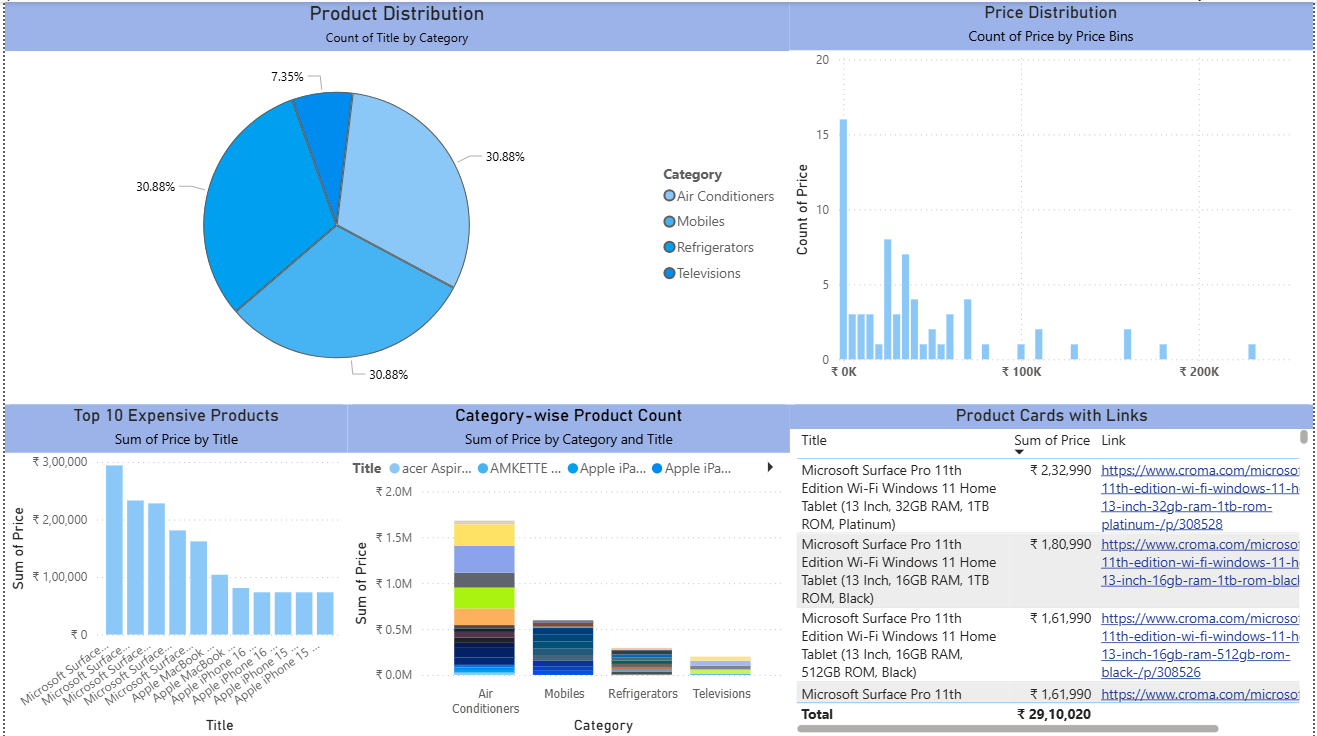

What the dashboard file says about the page in this screenshot:
{"tool":"powerbi","page":{"name":"Page 1","canvas":[1280,720],"ordinal":0},"visuals":[{"type":"columnChart","title":"Category-wise Product Count","fields":{"Y":["Sum(croma_cleaned_products.Price)"],"Category":["croma_cleaned_products.Category"],"Series":["croma_cleaned_products.Title"]},"box":[335.1,393.8,432.9,326.5],"z":0},{"type":"columnChart","title":"Price Distribution","fields":{"Category":["croma_cleaned_products.Price Bins"],"Y":["CountNonNull(croma_cleaned_products.Price)"]},"box":[767.1,0,512.9,392.9],"z":1000},{"type":"tableEx","title":"Product Cards with Links","fields":{"Values":["croma_cleaned_products.Title","Sum(croma_cleaned_products.Price)","croma_cleaned_products.Link"]},"box":[767.9,393.8,512.4,326.5],"z":2000},{"type":"clusteredColumnChart","title":"Top 10 Expensive Products","fields":{"Category":["croma_cleaned_products.Title"],"Y":["Sum(croma_cleaned_products.Price)"]},"box":[0,393.8,335.1,326.5],"z":3000},{"type":"pieChart","title":"Product Distribution","fields":{"Y":["CountNonNull(croma_cleaned_products.Title)"],"Category":["croma_cleaned_products.Category"]},"box":[0,0,767.1,392.9],"z":4000}]}

Visuals, with their boxes in screenshot pixels (x1, y1, x2, y2), scaled from the page's 1280x720 canvas onto the 1317x736 screenshot:
"Category-wise Product Count" columnChart: region(345, 403, 790, 735)
"Price Distribution" columnChart: region(789, 0, 1316, 402)
"Product Cards with Links" tableEx: region(790, 403, 1316, 735)
"Top 10 Expensive Products" clusteredColumnChart: region(0, 403, 345, 735)
"Product Distribution" pieChart: region(0, 0, 789, 402)
